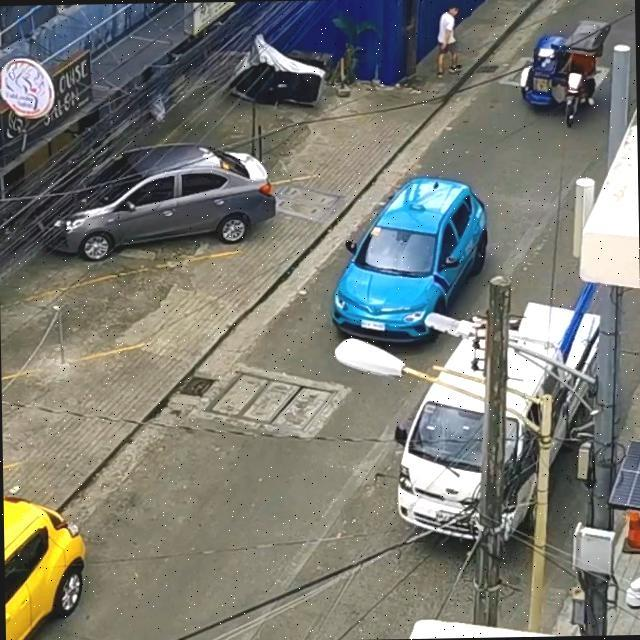Tricycle: (506, 10, 636, 138)
